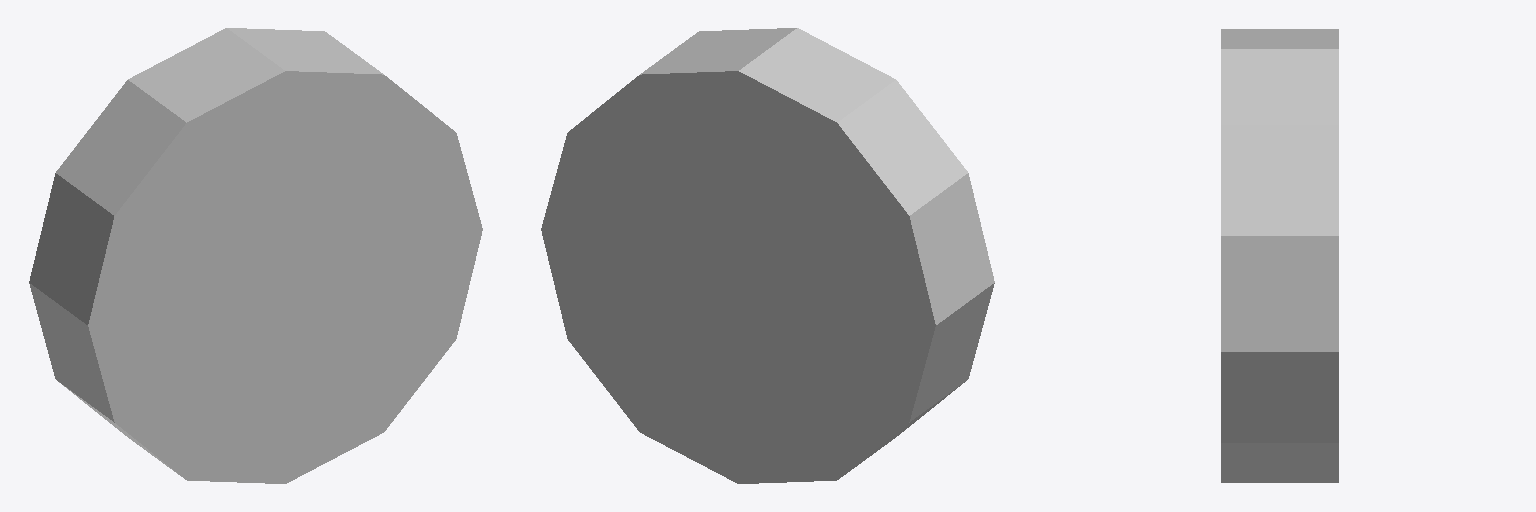
The model's file is body_base.obj.
3 views of the same model, side by side, from view 1: azimuth 30°, elevation 25°; view 2: azimuth 150°, elevation 25°; view 3: azimuth 270°, elevation 25° (orthographic).
Parts seen in each view (by area): view 1: body_base_Cylinder.058; view 2: body_base_Cylinder.058; view 3: body_base_Cylinder.058.
Part boxes in pixels (left/top/right/bottom): body_base_Cylinder.058: left=29, top=28, right=482, bottom=483; body_base_Cylinder.058: left=541, top=28, right=994, bottom=483; body_base_Cylinder.058: left=1221, top=29, right=1338, bottom=482.
Bounding box in the file's own units: 0.0792 × 0.0792 × 0.0205.